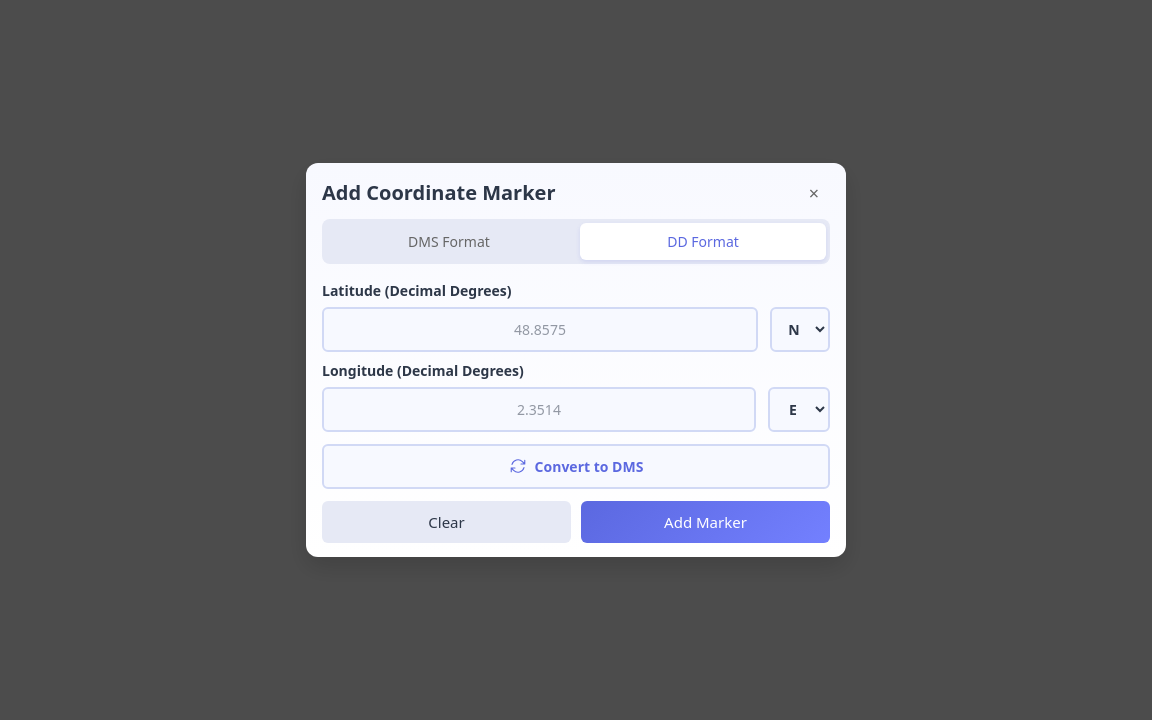
CoordinateModal › should clear form when clear button is clicked
Type "4.5709" into the field with placeholder "48.8575" at x=540, y=329, box [322, 307, 758, 352]
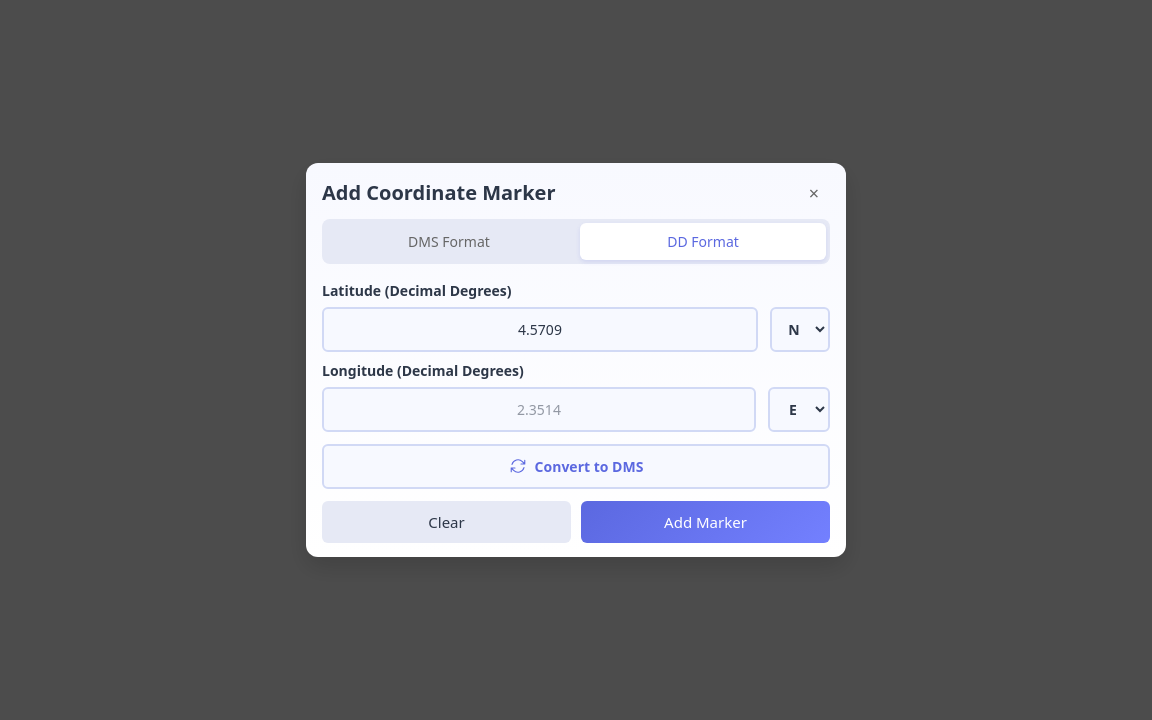
Type "74.2973" into the field with placeholder "2.3514" at x=539, y=409, box [322, 387, 756, 432]
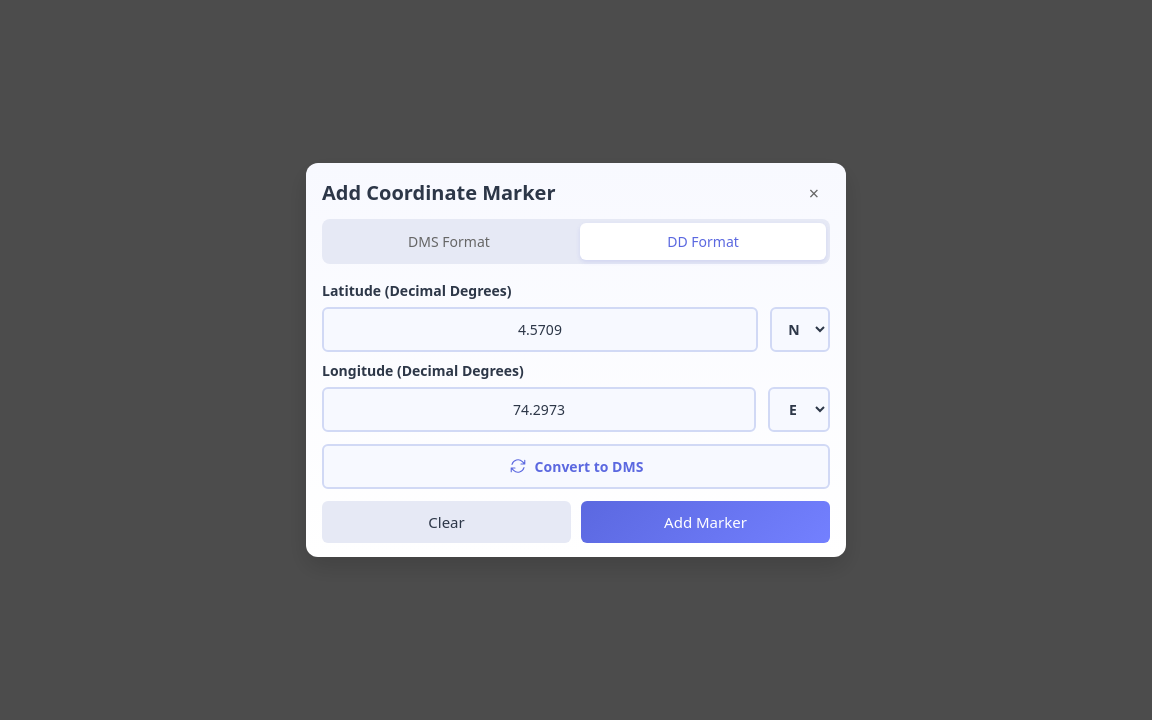
Click the button "Clear" at x=446, y=522, box [322, 501, 571, 543]
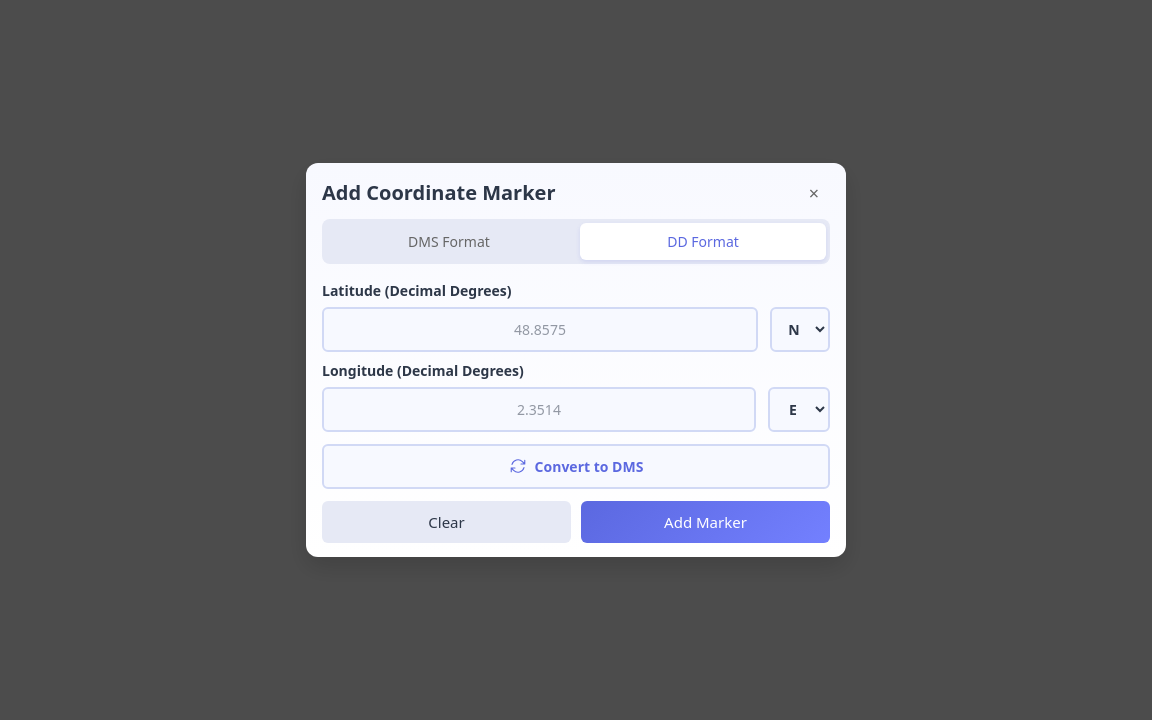
Check: the field with placeholder "48.8575" is empty, box [322, 307, 758, 352]
Check: the field with placeholder "2.3514" is empty, box [322, 387, 756, 432]
